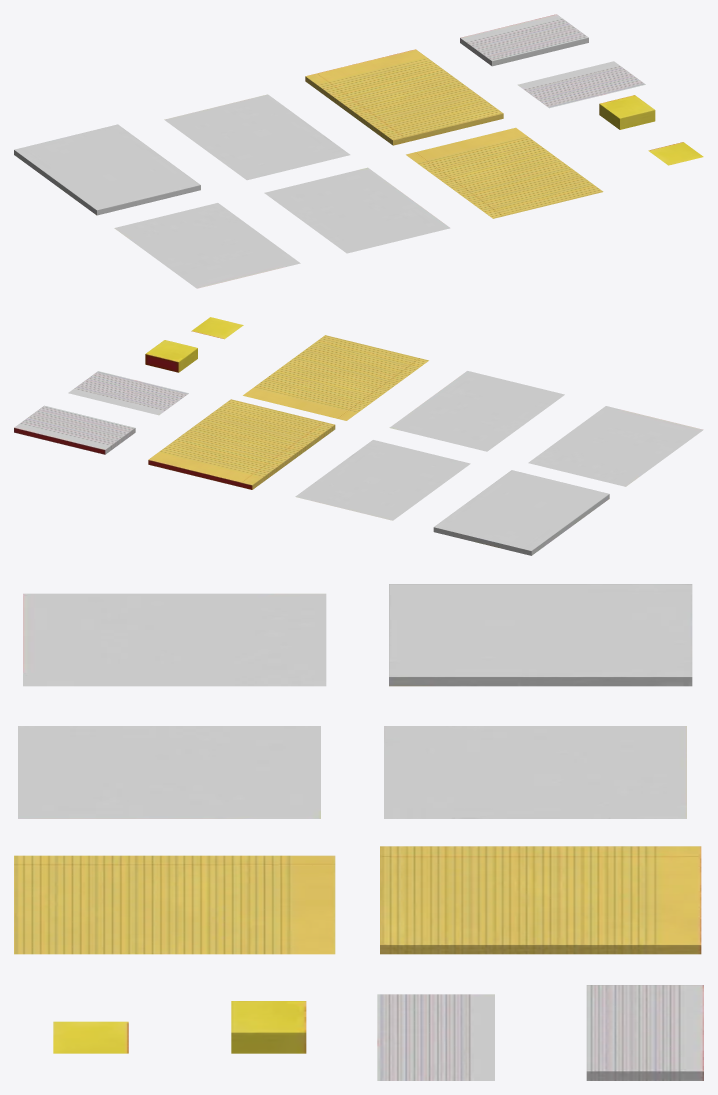
File: office_notepads.glb
The picture shows the model from 3 angles, top to bottom: view 1: azimuth 30°, elevation 25°; view 2: azimuth 150°, elevation 25°; view 3: azimuth 270°, elevation 25°; orthographic projection. The views are drawn at different scales.
Parts seen in each view (by area): view 1: office_notepads_yellow_sheet; view 2: office_notepads_yellow_sheet; view 3: office_notepads_yellow_sheet.
Part boxes in pixels (x1,y1,x2,y2): office_notepads_yellow_sheet: (14,14,703,288); office_notepads_yellow_sheet: (14,317,703,555); office_notepads_yellow_sheet: (14,584,703,1080).
Size of the model in its own units: 1.1 by 0.0219 by 0.6598.
1 material, 1 textured.
